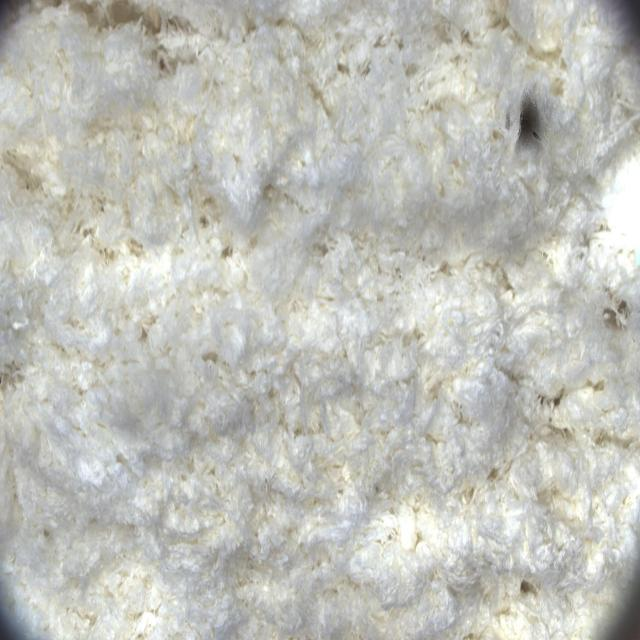dust: (490, 69, 577, 175)
